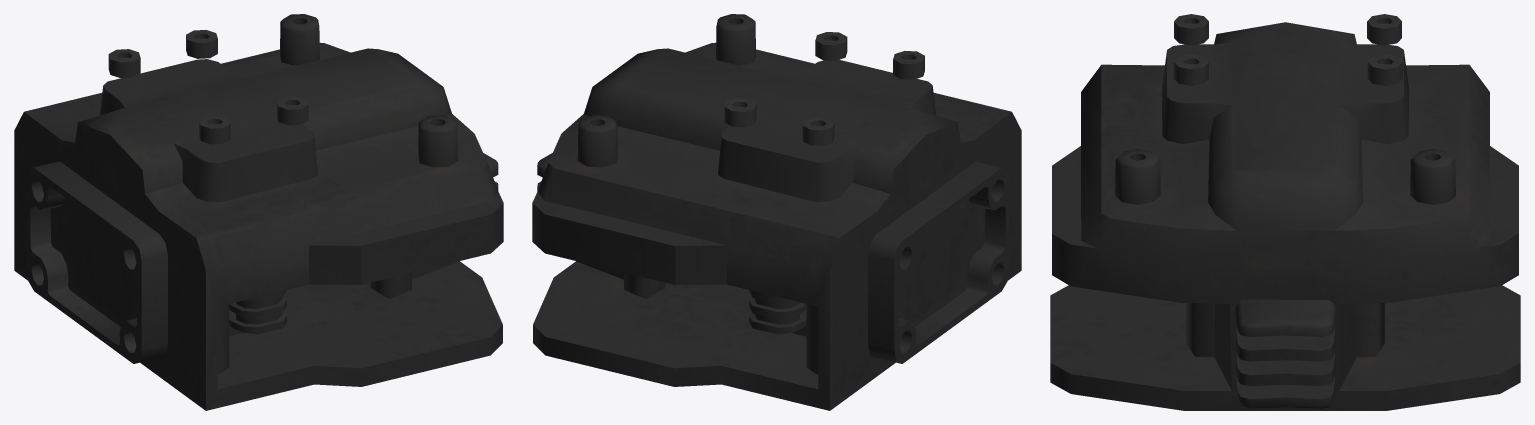
The model's file is gripper_base.dae.
The picture shows the model from 3 angles, left to right: view 1: azimuth 30°, elevation 25°; view 2: azimuth 150°, elevation 25°; view 3: azimuth 270°, elevation 25°; orthographic projection. The views are drawn at different scales.
Parts seen in each view (by area): view 1: gripper_base; view 2: gripper_base; view 3: gripper_base.
Part boxes in pixels (box(x1,y1,x2,y2)): gripper_base: box(14, 14, 503, 410); gripper_base: box(532, 14, 1021, 410); gripper_base: box(1050, 14, 1520, 410).
Size of the model in its own units: 0.0796 by 0.0765 by 0.0452.
